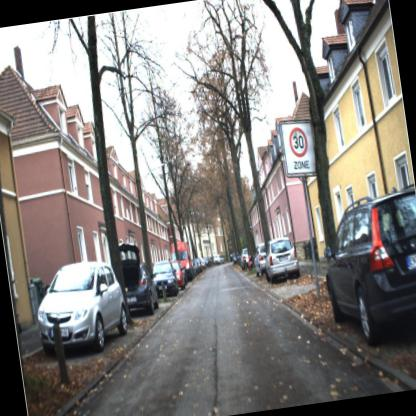prohibitory: (282, 119, 318, 176)
